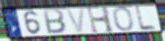6: (23, 10, 43, 36)
B: (42, 8, 68, 34)
H: (86, 6, 116, 35)
L: (134, 5, 158, 32)
O: (112, 6, 135, 32)
V: (64, 7, 87, 35)
